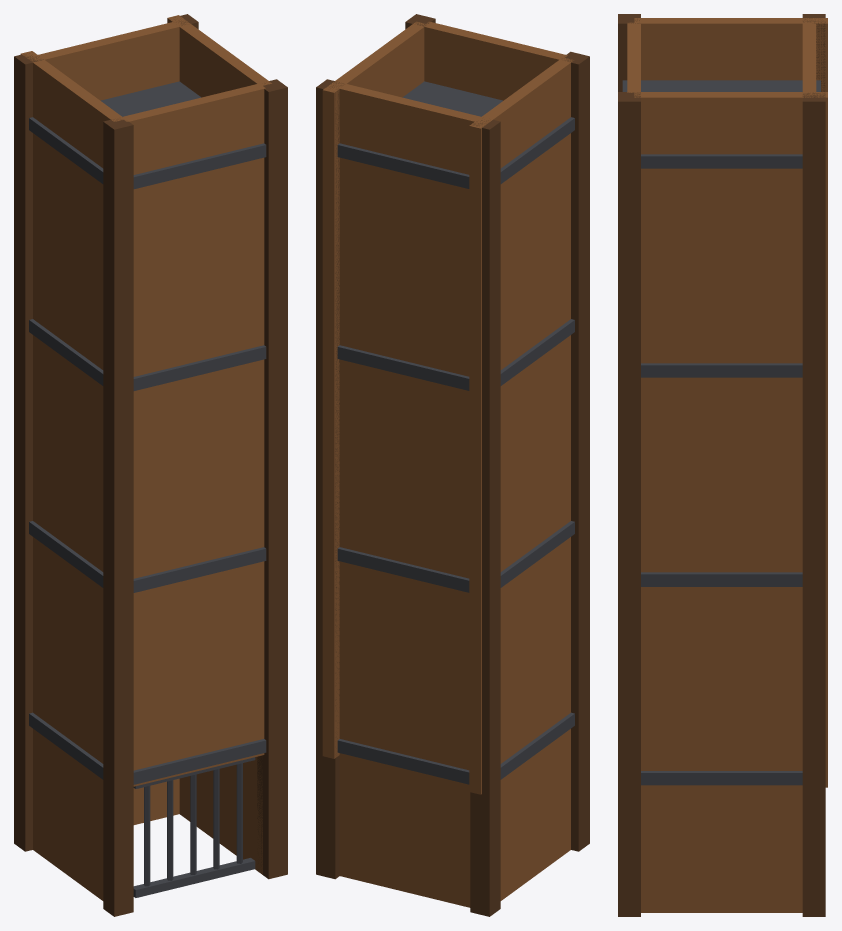
The model's file is mine_vent_chimney.glb.
3 renders of one model, left to right at view 1: azimuth 30°, elevation 25°; view 2: azimuth 150°, elevation 25°; view 3: azimuth 270°, elevation 25°, orthographic. The views are drawn at different scales.
Visible parts, largest first — view 1: mine_vent_chimney; view 2: mine_vent_chimney; view 3: mine_vent_chimney.
Boxes of the visible parts, x1,y1,x2,y2 form: mine_vent_chimney: (14, 14, 287, 916); mine_vent_chimney: (316, 14, 589, 916); mine_vent_chimney: (618, 14, 827, 916).
Size of the model in its own units: 0.9 by 3.9 by 0.91.
